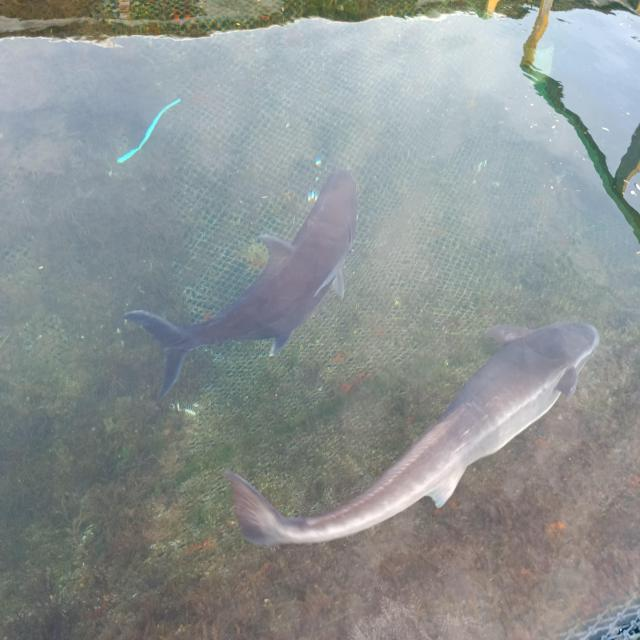ikan: (222, 318, 600, 549), (122, 166, 359, 403)
